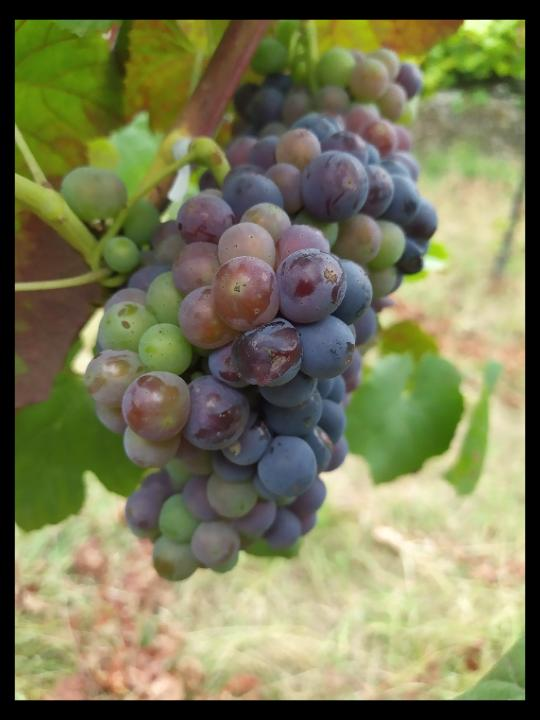grape: (80, 126, 381, 585)
